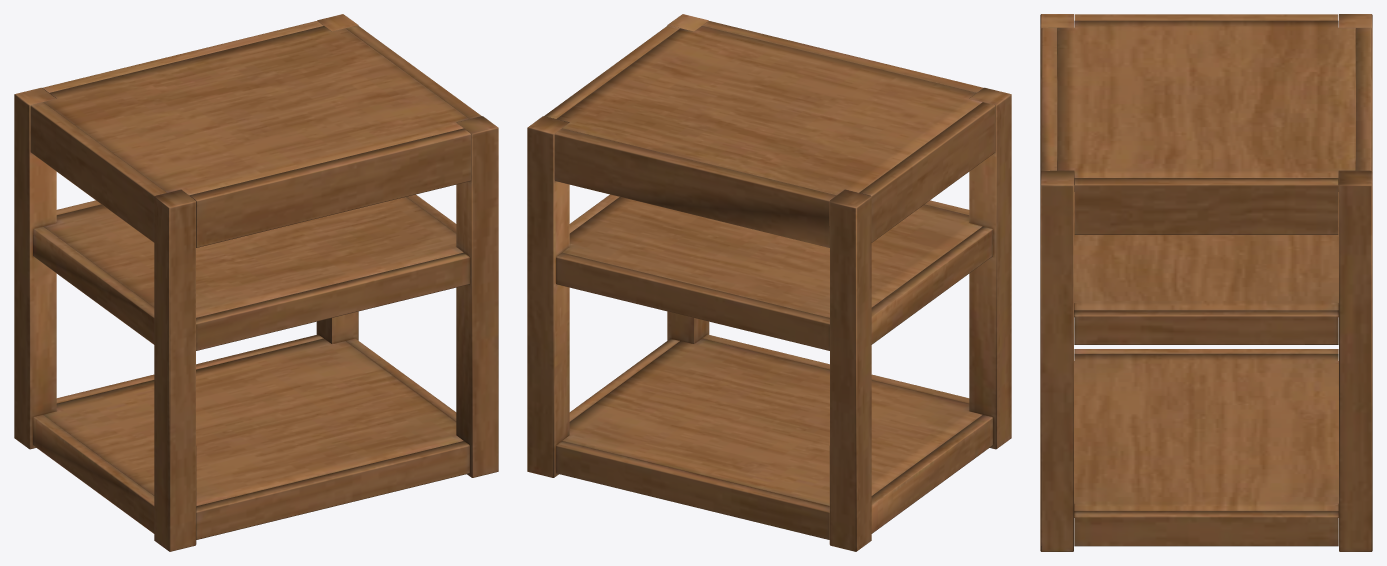
File: side_table_01.glb
3 renders of one model, left to right at view 1: azimuth 30°, elevation 25°; view 2: azimuth 150°, elevation 25°; view 3: azimuth 270°, elevation 25°, orthographic. The views are drawn at different scales.
Parts seen in each view (by area): view 1: side_table_01; view 2: side_table_01; view 3: side_table_01.
Boxes of the visible parts, x1,y1,x2,y2 form: side_table_01: (14,14,498,551); side_table_01: (527,14,1011,551); side_table_01: (1040,14,1372,551).
Bounding box in the file's own units: 0.55 × 0.5507 × 0.45.
Materials: 1 (1 with a texture image).
